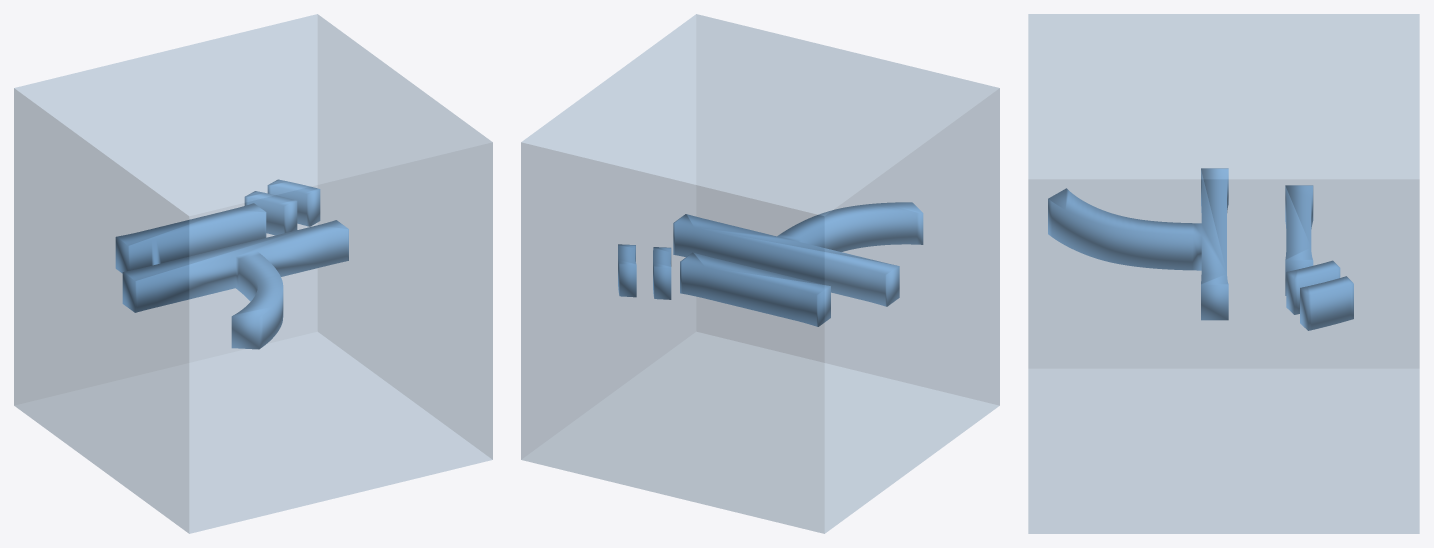
File: Title_Ice10.obj
The picture shows the model from 3 angles, left to right: view 1: azimuth 30°, elevation 25°; view 2: azimuth 150°, elevation 25°; view 3: azimuth 270°, elevation 25°; orthographic projection. The views are drawn at different scales.
Visible parts, largest first — view 1: 10.デ; view 2: 10.デ; view 3: 10.デ.
Boxes of the visible parts, left/top/right/bottom form: 10.デ: left=14, top=14, right=492, bottom=533; 10.デ: left=521, top=14, right=999, bottom=533; 10.デ: left=1028, top=14, right=1419, bottom=533.
Size of the model in its own units: 2 by 2 by 2.
1 material, 1 textured.
